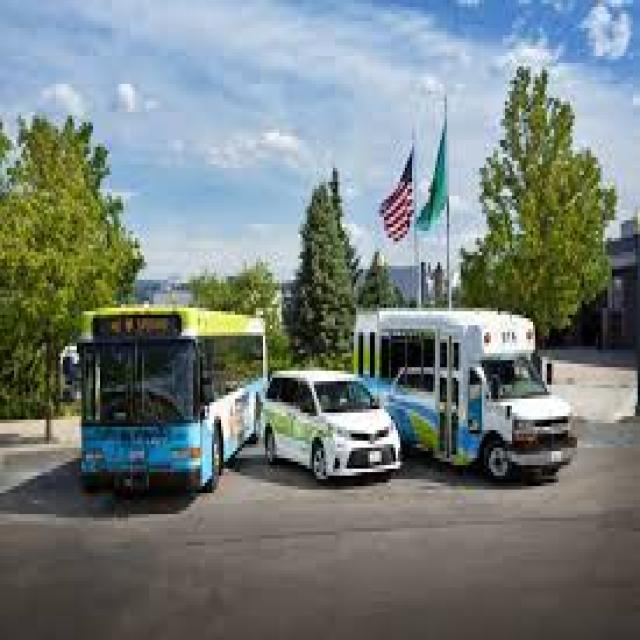Bus: (80, 264, 274, 498)
